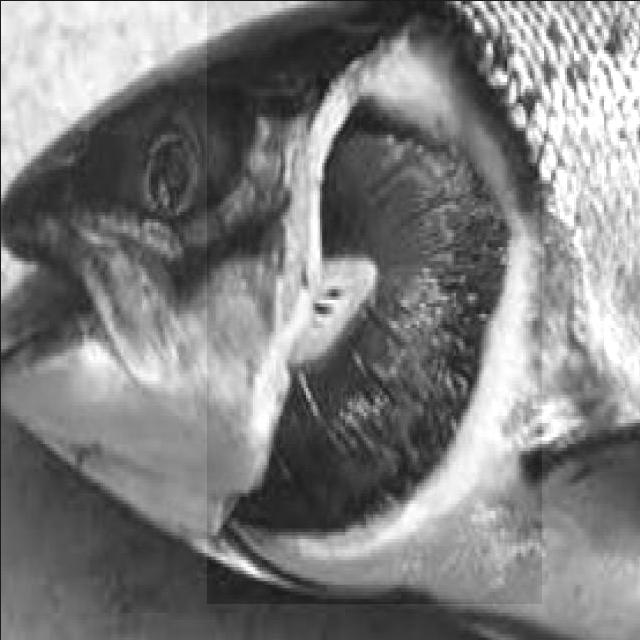Gill Disease: (206, 0, 541, 603)
